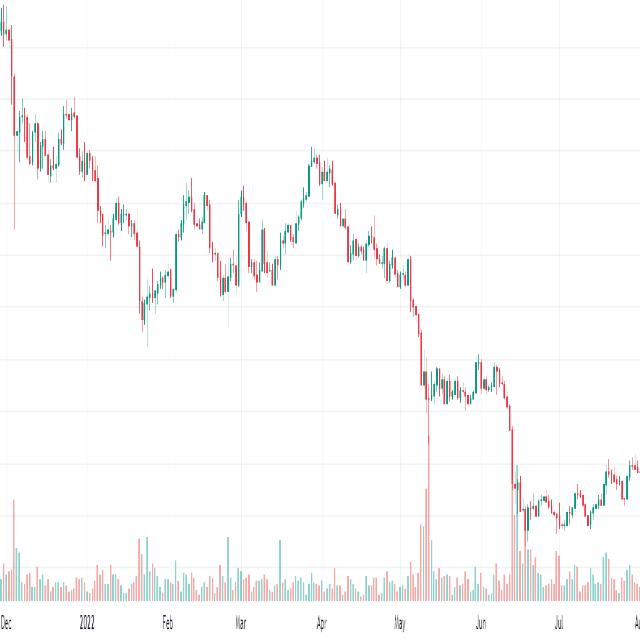rectangle: (414, 335, 519, 437)
